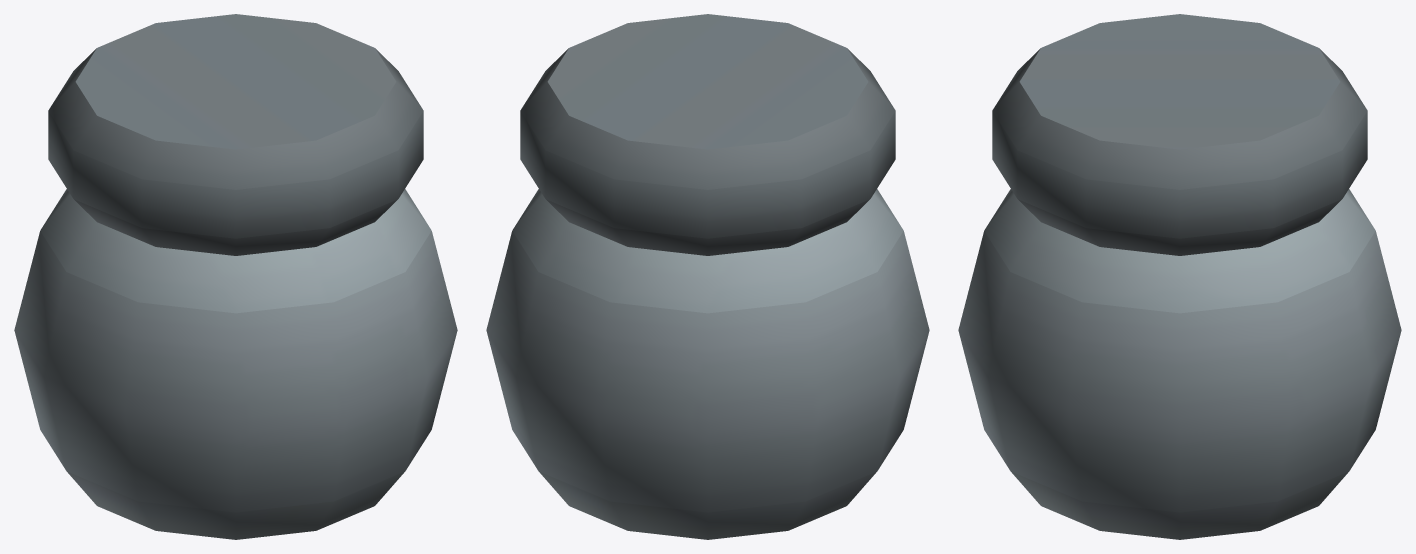
File: kaykit-restaurant-bits-jar-b-small.glb
3 renders of one model, left to right at view 1: azimuth 30°, elevation 25°; view 2: azimuth 150°, elevation 25°; view 3: azimuth 270°, elevation 25°, orthographic.
Visible parts, largest first — view 1: jar_B_small; view 2: jar_B_small; view 3: jar_B_small.
Part boxes in pixels (bbox=[...]): jar_B_small: bbox=[14, 14, 457, 539]; jar_B_small: bbox=[486, 14, 929, 539]; jar_B_small: bbox=[958, 14, 1401, 539].
Bounding box in the file's own units: 0.566 × 0.55 × 0.566.
Materials: 1 (1 with a texture image).
